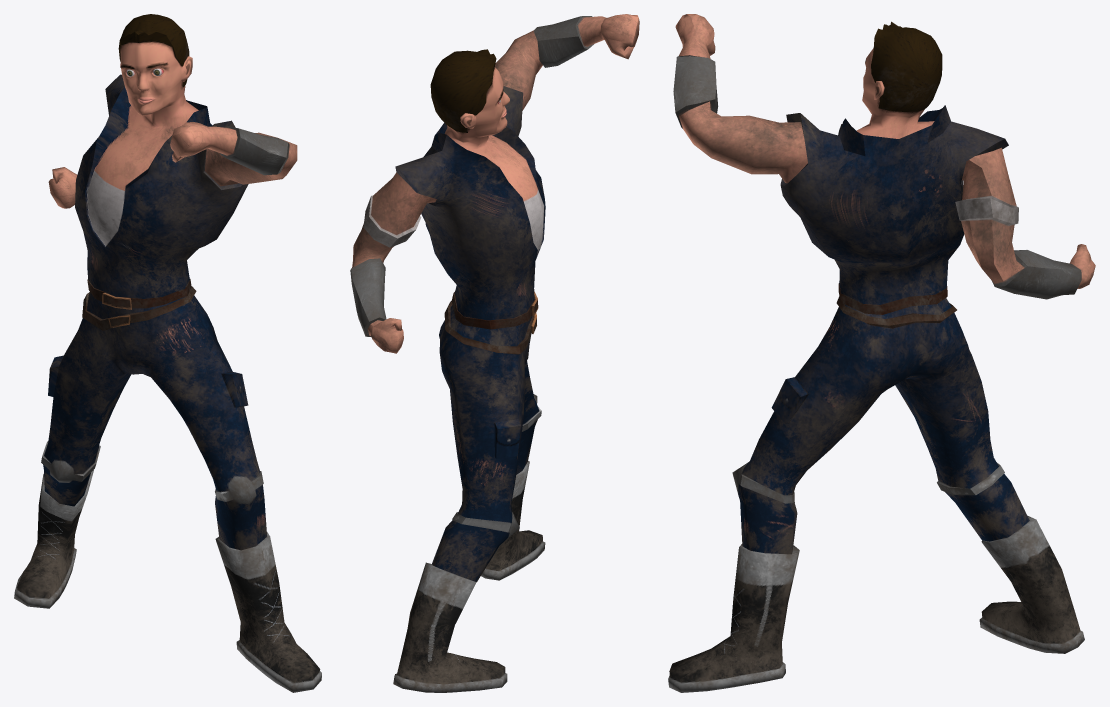
The model's file is Anim_especial_jugador.0023.obj.
3 renders of one model, left to right at view 1: azimuth 30°, elevation 25°; view 2: azimuth 150°, elevation 25°; view 3: azimuth 270°, elevation 25°, orthographic. The views are drawn at different scales.
Parts seen in each view (by area): view 1: polySurface1; view 2: polySurface1; view 3: polySurface1.
Part boxes in pixels (left/top/right/bottom): polySurface1: left=14, top=14, right=321, bottom=692; polySurface1: left=350, top=14, right=639, bottom=692; polySurface1: left=668, top=14, right=1095, bottom=692.
Size of the model in its own units: 2.61 by 9.24 by 5.67.
